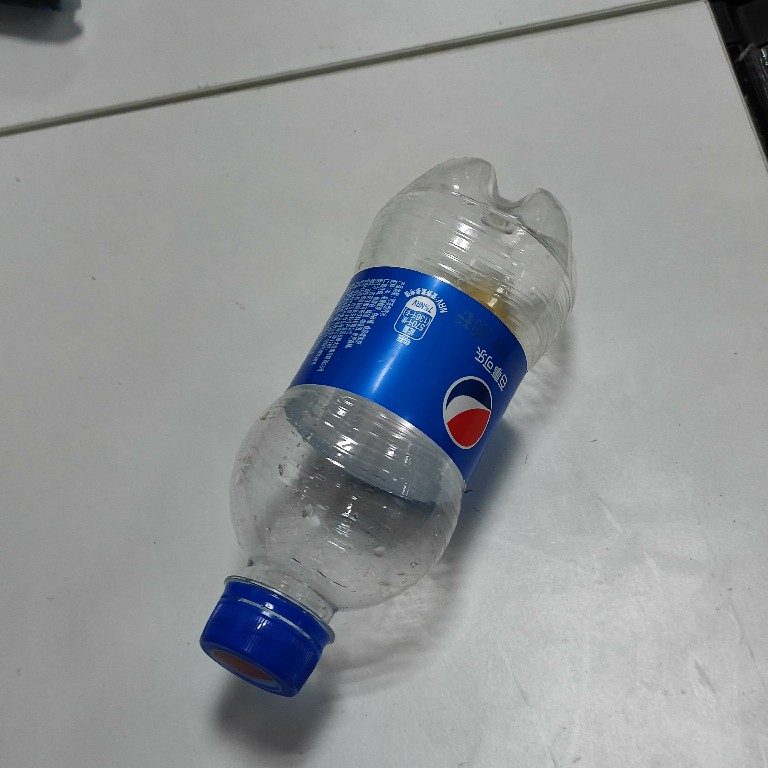bottle: (193, 152, 581, 700)
